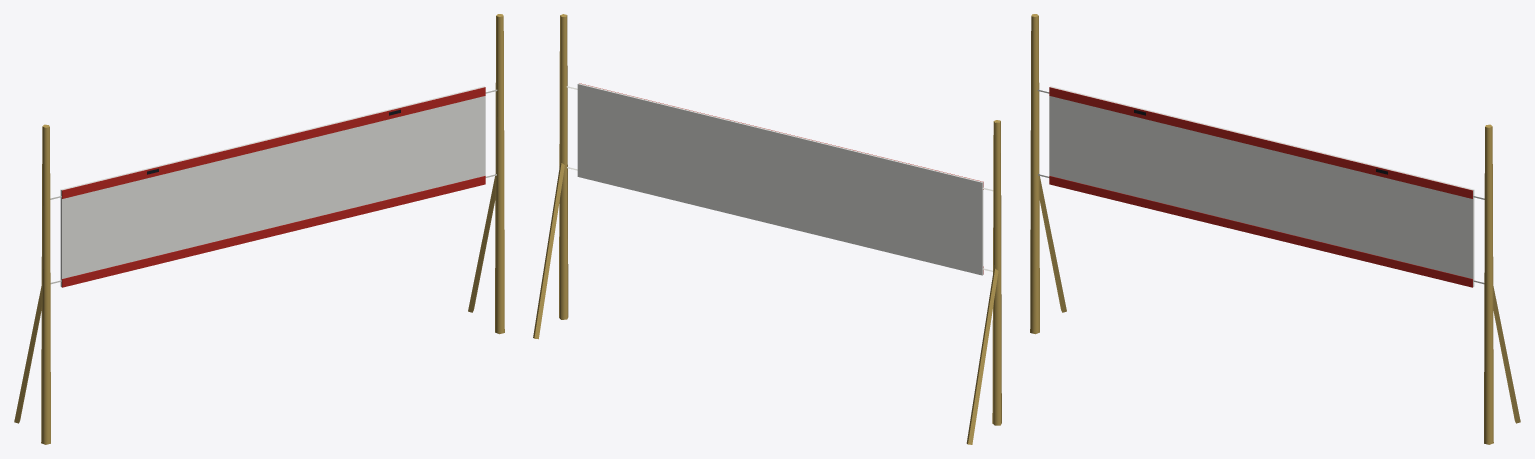
File: spanduk.glb
The picture shows the model from 3 angles, left to right: view 1: azimuth 30°, elevation 25°; view 2: azimuth 150°, elevation 25°; view 3: azimuth 330°, elevation 25°; orthographic projection. The views are drawn at different scales.
Visible parts, largest first — view 1: body; view 2: body; view 3: body.
Part boxes in pixels (x1,y1,x2,y2): body: [14, 14, 504, 444]; body: [533, 14, 1001, 444]; body: [1030, 14, 1520, 444].
Size of the model in its own units: 4.59 by 3.01 by 0.565.
Materials: 1 (1 with a texture image).
